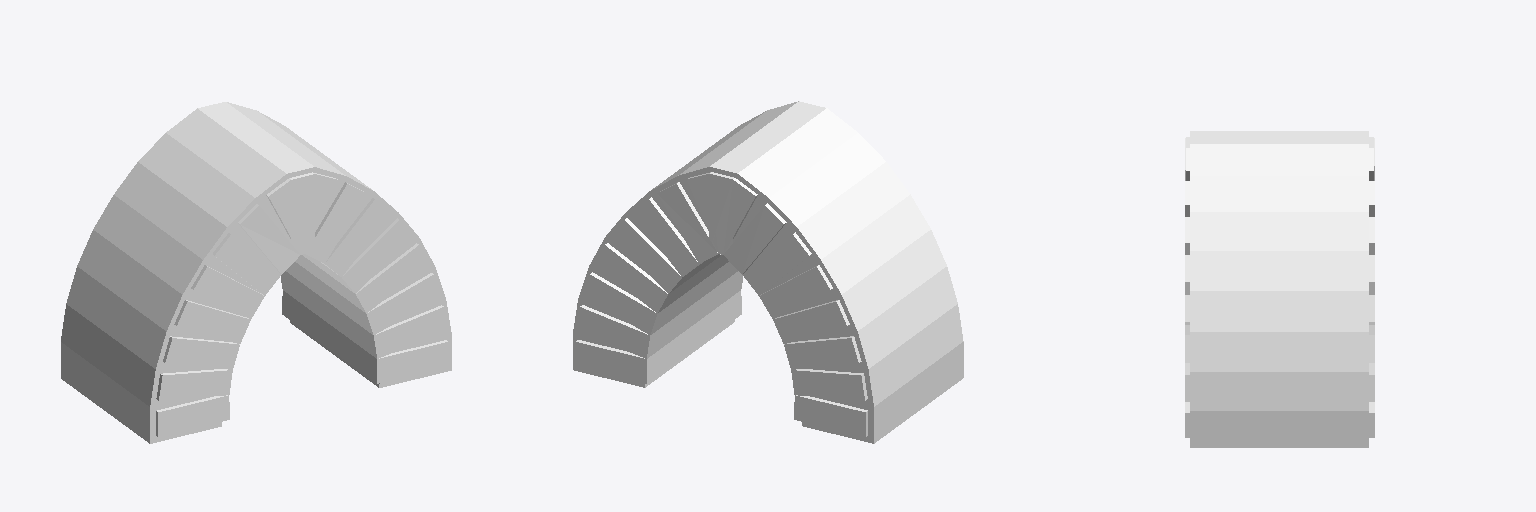
The model's file is lime_mortar_orange_clay_brick_gothic_arch_1.obj.
The picture shows the model from 3 angles: view 1: azimuth 30°, elevation 25°; view 2: azimuth 150°, elevation 25°; view 3: azimuth 270°, elevation 25°; orthographic projection.
Visible parts, largest first — view 1: mortar, bricks; view 2: mortar, bricks; view 3: mortar, bricks.
Boxes of the visible parts, box(x1,y1,x2,y2) form: mortar: box(61, 102, 451, 443); bricks: box(156, 172, 447, 436); mortar: box(573, 101, 963, 443); bricks: box(576, 172, 867, 436); mortar: box(1190, 131, 1368, 447); bricks: box(1185, 137, 1374, 437).
Size of the model in its own units: 1.98 by 1.49 by 1.08.